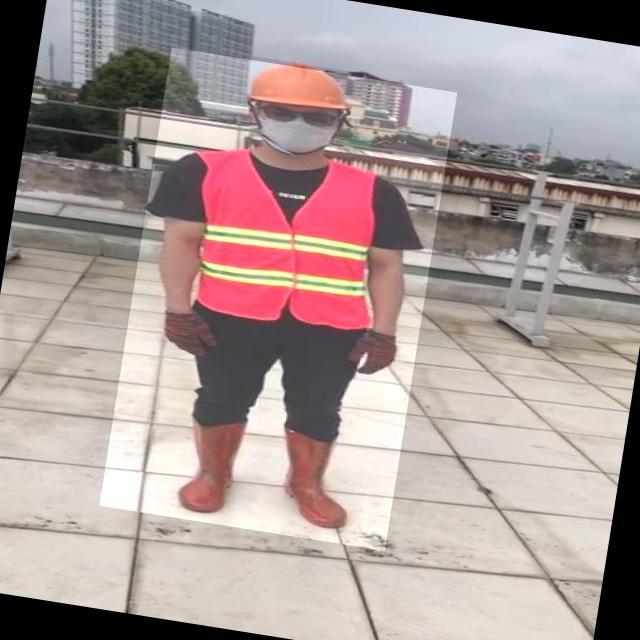Gloves: (157, 307, 227, 362), (352, 329, 401, 378)
Helmet: (245, 56, 363, 119)
Human: (100, 48, 459, 552)
Safety Boot: (276, 429, 364, 530), (178, 415, 247, 519)
Safety Vest: (181, 148, 388, 334)
